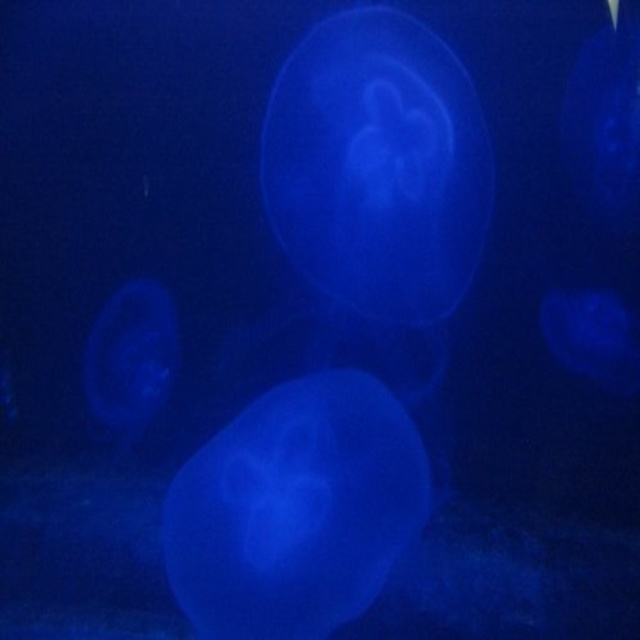Jellyfish: (256, 0, 503, 333), (161, 367, 431, 638), (556, 17, 639, 210), (91, 271, 180, 447), (539, 287, 639, 386)
